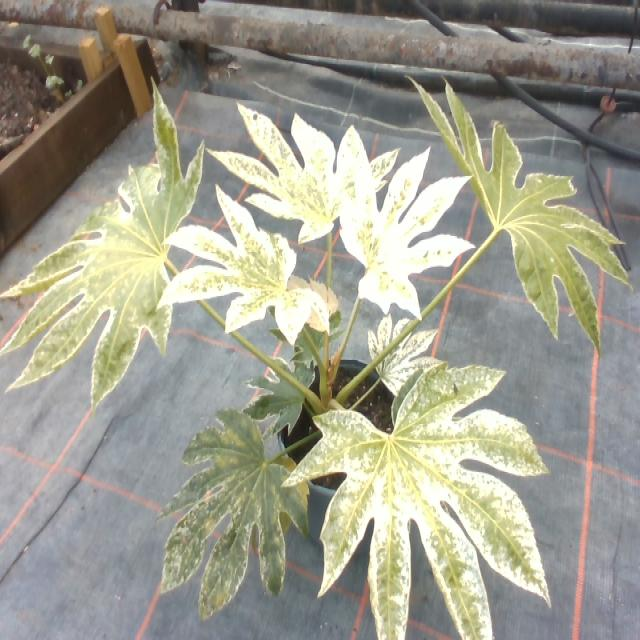Fatsia-japonica: (388, 35, 636, 372), (283, 350, 571, 640), (0, 72, 208, 422), (131, 405, 310, 608), (168, 185, 328, 378), (206, 93, 392, 250), (320, 160, 468, 325), (358, 314, 446, 397)
